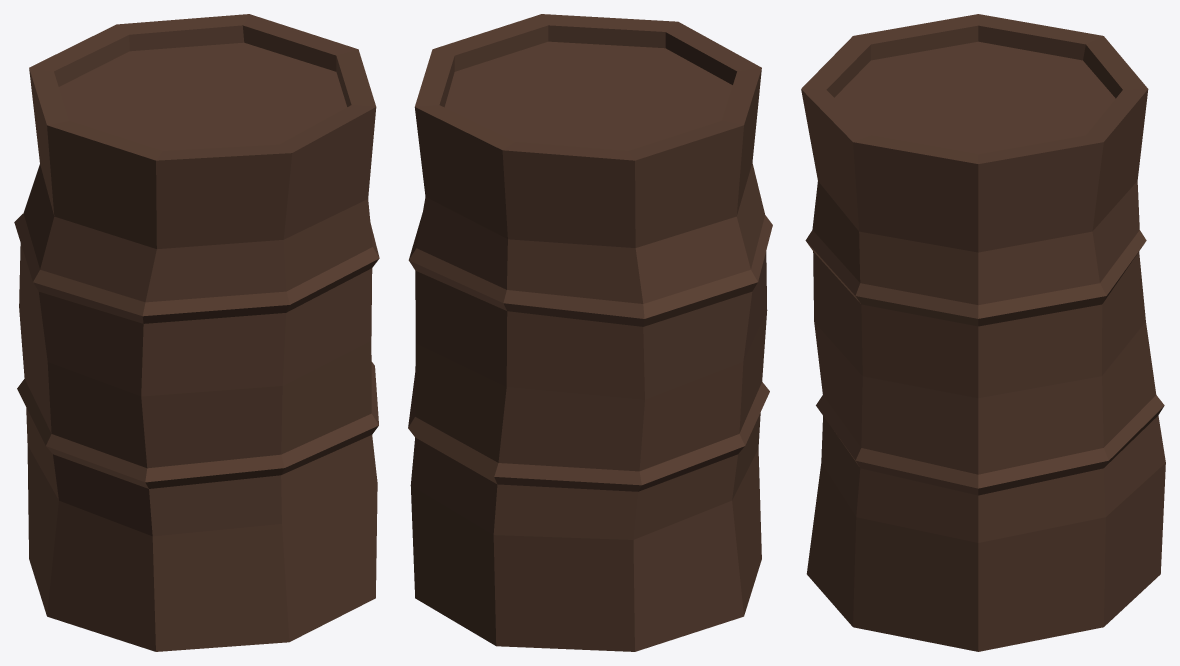
Rendered from Drum2.fbx.
The picture shows the model from 3 angles, left to right: view 1: azimuth 30°, elevation 25°; view 2: azimuth 150°, elevation 25°; view 3: azimuth 270°, elevation 25°; orthographic projection.
Parts seen in each view (by area): view 1: Circle; view 2: Circle; view 3: Circle.
Part boxes in pixels (box(x1,y1,x2,y2)): Circle: box(14, 14, 379, 651); Circle: box(408, 14, 772, 651); Circle: box(801, 14, 1165, 651).
Size of the model in its own units: 0.6575 by 0.9026 by 0.6149.
